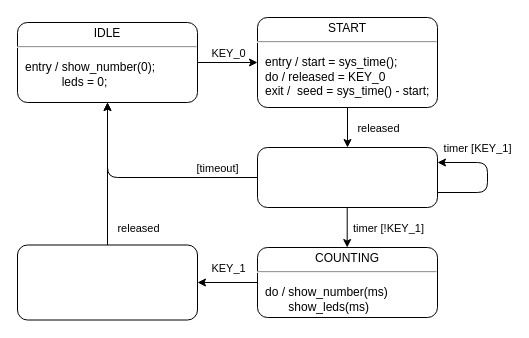
The diagram is 529 pixels wide and 338 high, and some of its shapes have lost their labels. Each missing label, with the centre of its shape:
"DELAYING entry / start_timer(rand(seed));" belongs at (x=347, y=177).
"STOP entry [high_score] / loop_leds() do / released = KEY_1" belongs at (x=107, y=282).
